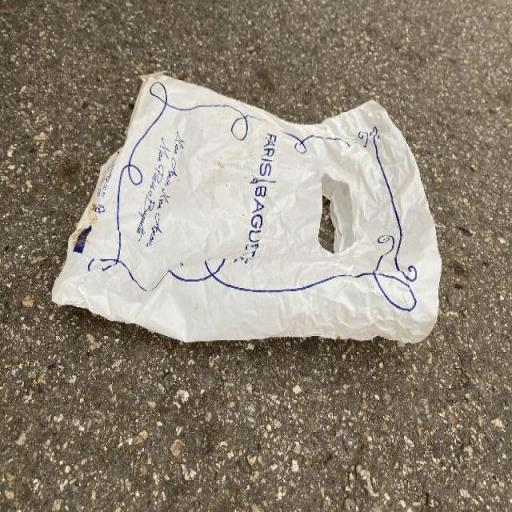plastic-bag: (48, 69, 446, 346)
